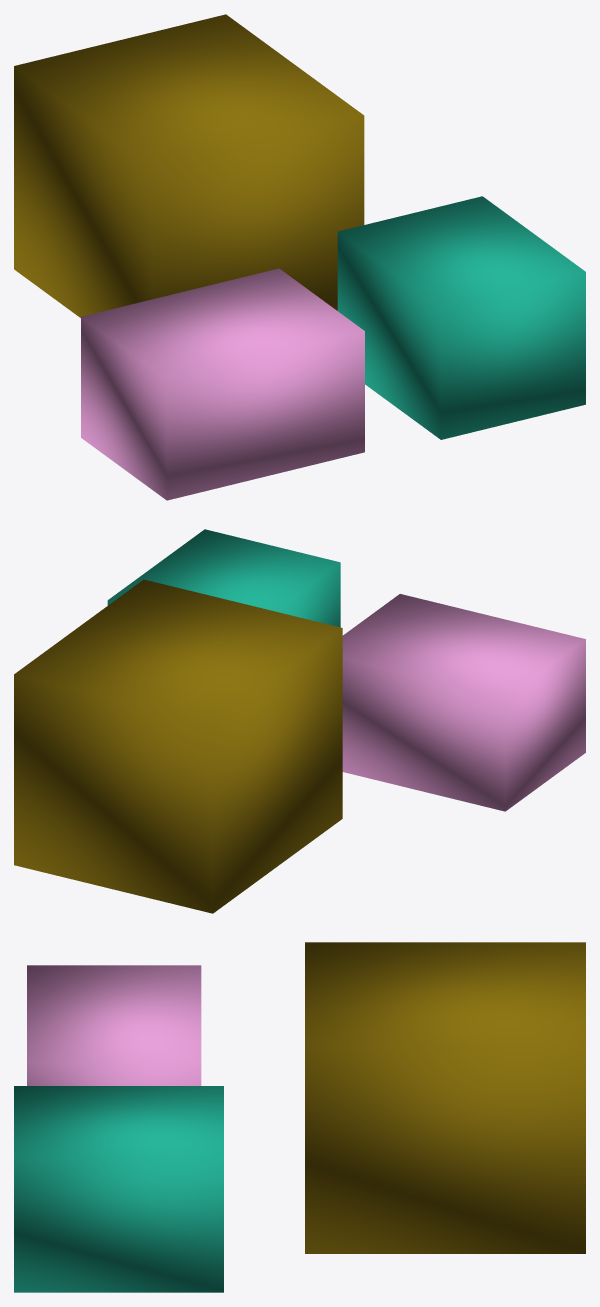
Rendered from boxs.obj.
3 renders of one model, top to bottom at view 1: azimuth 30°, elevation 25°; view 2: azimuth 150°, elevation 25°; view 3: azimuth 270°, elevation 25°, orthographic. The views are drawn at different scales.
Visible parts, largest first — view 1: Box001, Box003, Box002; view 2: Box001, Box003, Box002; view 3: Box001, Box002, Box003.
Boxes of the visible parts, box(x1,y1,x2,y2) form: Box001: box(14, 14, 364, 317); Box003: box(81, 268, 364, 500); Box002: box(337, 196, 585, 439); Box001: box(14, 579, 342, 913); Box003: box(342, 594, 585, 811); Box002: box(107, 529, 340, 627); Box001: box(305, 942, 585, 1253); Box002: box(14, 1086, 223, 1292); Box003: box(27, 965, 201, 1085).
Bounding box in the file's own units: 51.86 × 24.41 × 61.3.
